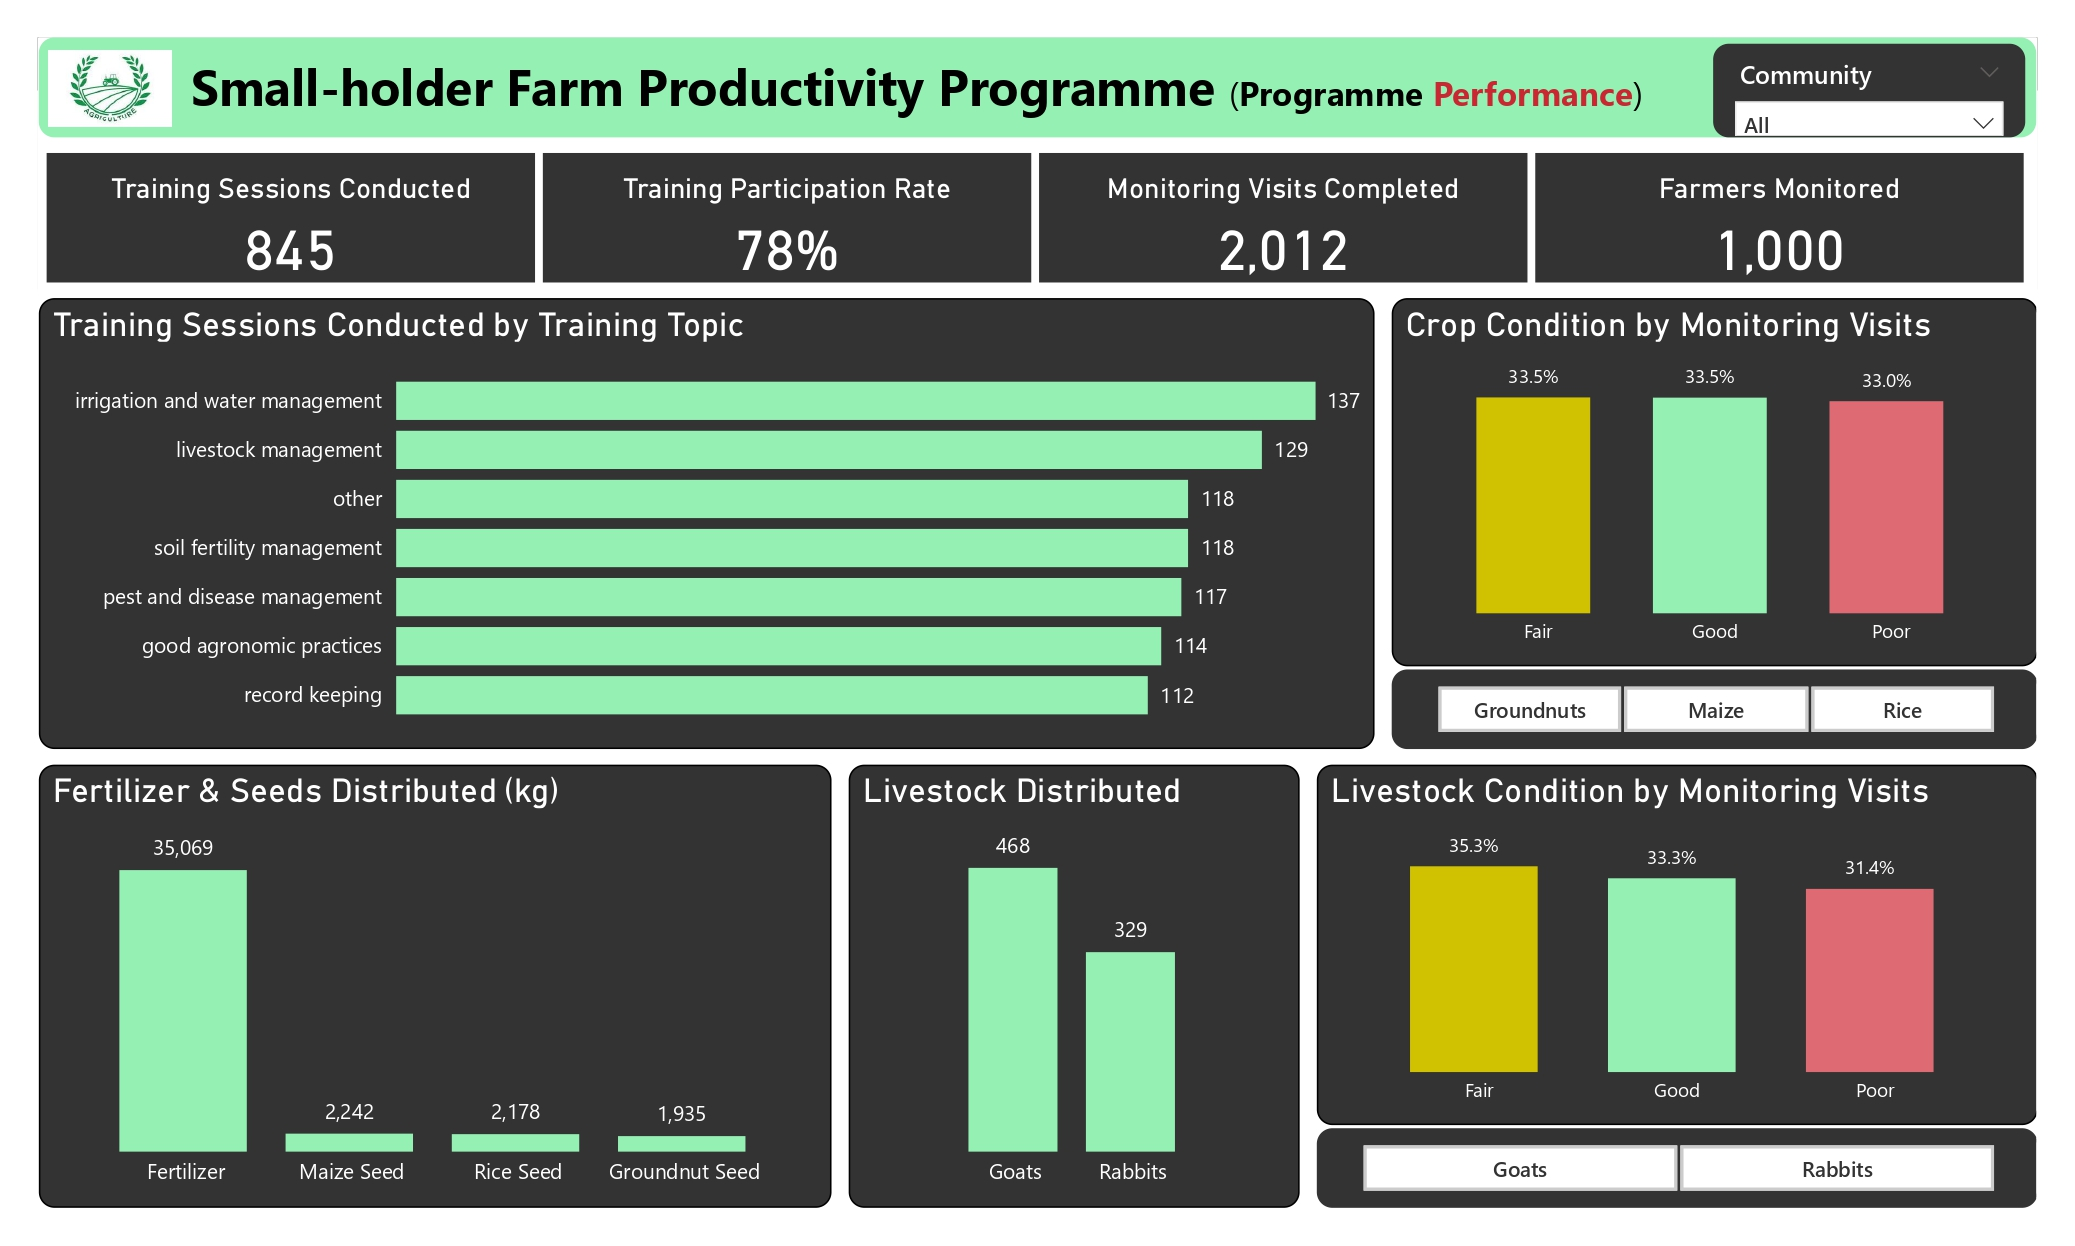

What the dashboard file says about the page in this screenshot:
{"tool":"powerbi","page":{"name":"2. Programme Performance","canvas":[1280,750],"ordinal":1},"visuals":[{"type":"cardVisual","fields":{"Data":["performance metrics.Training Sessions Conducted","overview metrics.Training Participation Rate","performance metrics.Monitoring Visits Completed","overview metrics.Farmers Monitored"]},"box":[0,69,1280.2,93.2],"z":0},{"type":"group","id":"g1","title":"Group 1","box":[0,0,1280.2,64.1],"z":1000},{"type":"textbox","box":[0,0,1280.2,64.1],"z":1000,"group":"g1"},{"type":"barChart","title":"Training Sessions Conducted by Training Topic","fields":{"Category":["mart_programme_performance.training_topic"],"Y":["performance metrics.Training Sessions Conducted"]},"box":[0,167.1,855.8,289],"z":2000},{"type":"columnChart","title":"Livestock Condition by Monitoring Visits","fields":{"Category":["report_livestock_conditions.Condition"],"Y":["performance metrics.Livestock Condition Count"]},"box":[819.4,466.2,461.2,231],"z":3000},{"type":"columnChart","title":"Fertilizer & Seeds Distributed (kg)","fields":{"Category":["Fertilizer_Seeds Inputs.Fertilizer & Seeds"],"Y":["performance metrics.Input Quantity (kg)"]},"box":[0,466.2,507.7,284],"z":4000},{"type":"columnChart","title":"Livestock Distributed","fields":{"Category":["Livestock.Livestock"],"Y":["performance metrics.Livestock Distributed"]},"box":[519,466,289,284],"z":5000},{"type":"columnChart","title":"Crop Condition by Monitoring Visits","fields":{"Category":["report_crop_conditions.Condition"],"Y":["Divide(performance metrics.Crop Condition Count, ScopedEval(performance metrics.Crop Condition Count, []))"]},"box":[867.1,167.1,413.5,236],"z":6000},{"type":"slicer","fields":{"Values":["report_crop_conditions.Crop"]},"box":[867.1,404.7,413.5,51.5],"z":7000},{"type":"slicer","fields":{"Values":["report_livestock_conditions.Livestock"]},"box":[819.4,698.7,461.2,51.5],"z":8000},{"type":"slicer","fields":{"Values":["mart_programme_overview.community"]},"box":[1073.2,3.8,199.8,60.3],"z":9000},{"type":"image","box":[0,2.5,90.5,59.1],"z":10000}]}

Visuals, with their boxes on the page's 1280x750 design canvas (x1, y1, x2, y2). These are canvas units, not pixel positions in the 2075x1246 screenshot, which may show the page scaled, cropped or inside an application window:
cardVisual - performance metrics.Training Sessions Conducted x overview metrics.Training Participation Rate: (0, 69, 1280, 162)
"Group 1" group: (0, 0, 1280, 64)
textbox: (0, 0, 1280, 64)
"Training Sessions Conducted by Training Topic" barChart: (0, 167, 856, 456)
"Livestock Condition by Monitoring Visits" columnChart: (819, 466, 1281, 697)
"Fertilizer & Seeds Distributed (kg)" columnChart: (0, 466, 508, 750)
"Livestock Distributed" columnChart: (519, 466, 808, 750)
"Crop Condition by Monitoring Visits" columnChart: (867, 167, 1281, 403)
slicer - report_crop_conditions.Crop: (867, 405, 1281, 456)
slicer - report_livestock_conditions.Livestock: (819, 699, 1281, 750)
slicer - mart_programme_overview.community: (1073, 4, 1273, 64)
image: (0, 2, 90, 62)
